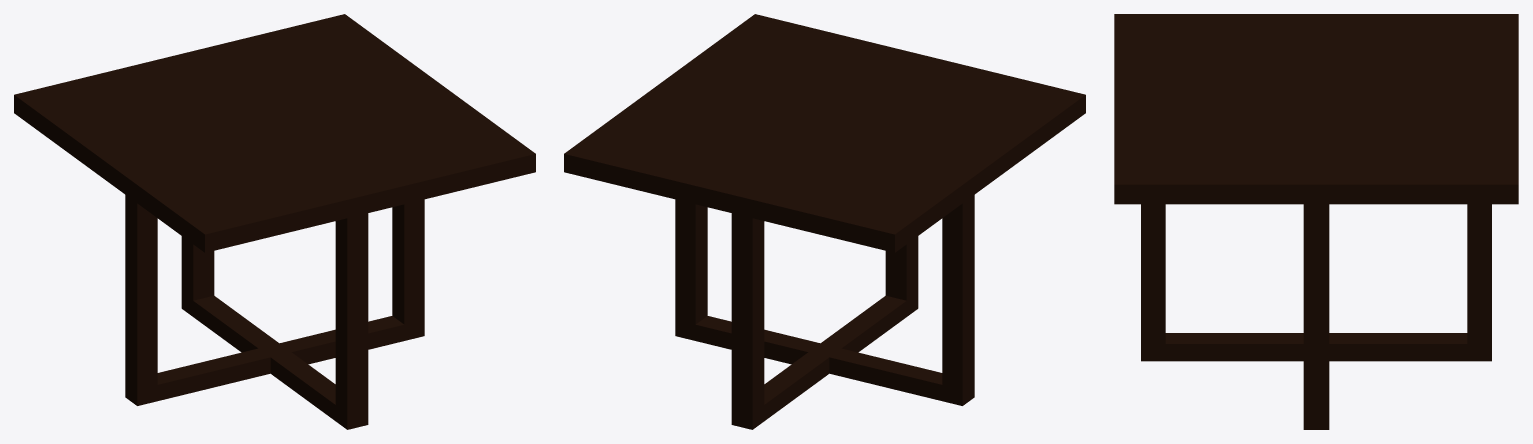
File: joinedLegsTable.fbx
3 views of the same model, side by side, from view 1: azimuth 30°, elevation 25°; view 2: azimuth 150°, elevation 25°; view 3: azimuth 270°, elevation 25° (orthographic). The views are drawn at different scales.
Parts seen in each view (by area): view 1: joinedLegsTable; view 2: joinedLegsTable; view 3: joinedLegsTable.
Boxes of the visible parts, <box> form: joinedLegsTable: <box>14,14,535,429</box>; joinedLegsTable: <box>564,14,1085,429</box>; joinedLegsTable: <box>1114,14,1518,429</box>.
Bounding box in the file's own units: 100 × 70 × 100.
